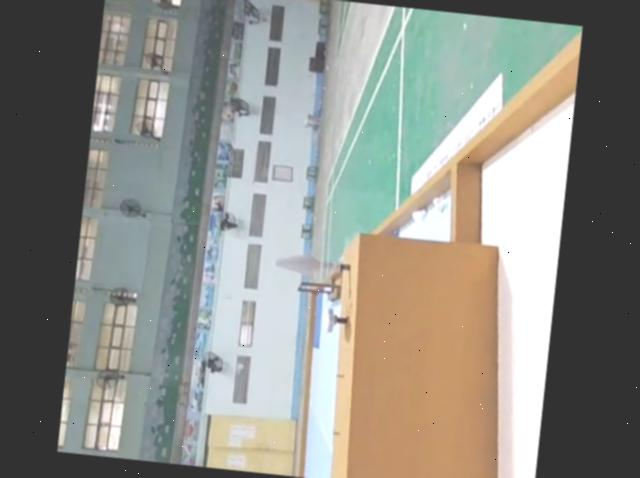Hand: (322, 263, 356, 335), (297, 271, 342, 301), (327, 265, 345, 302), (326, 307, 349, 334), (326, 306, 338, 333), (306, 165, 320, 181), (301, 222, 314, 239)
Sph: (270, 253, 353, 331), (281, 256, 348, 300), (274, 250, 343, 280), (298, 279, 337, 296)
